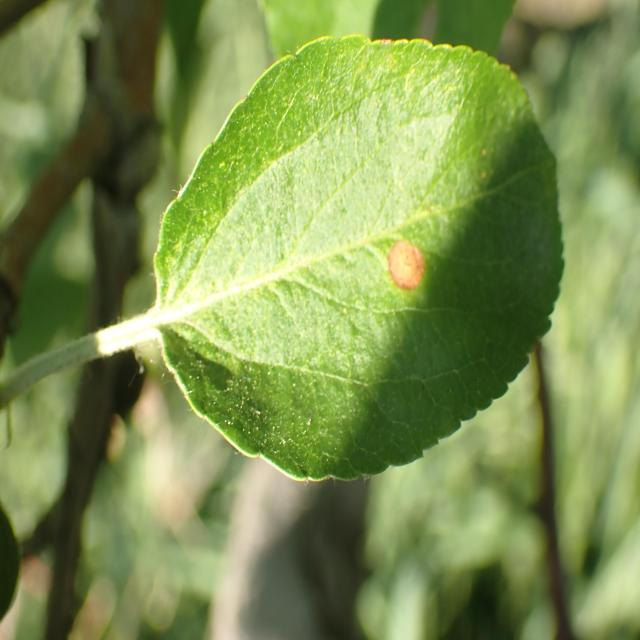Black Rot: (374, 220, 430, 320)
